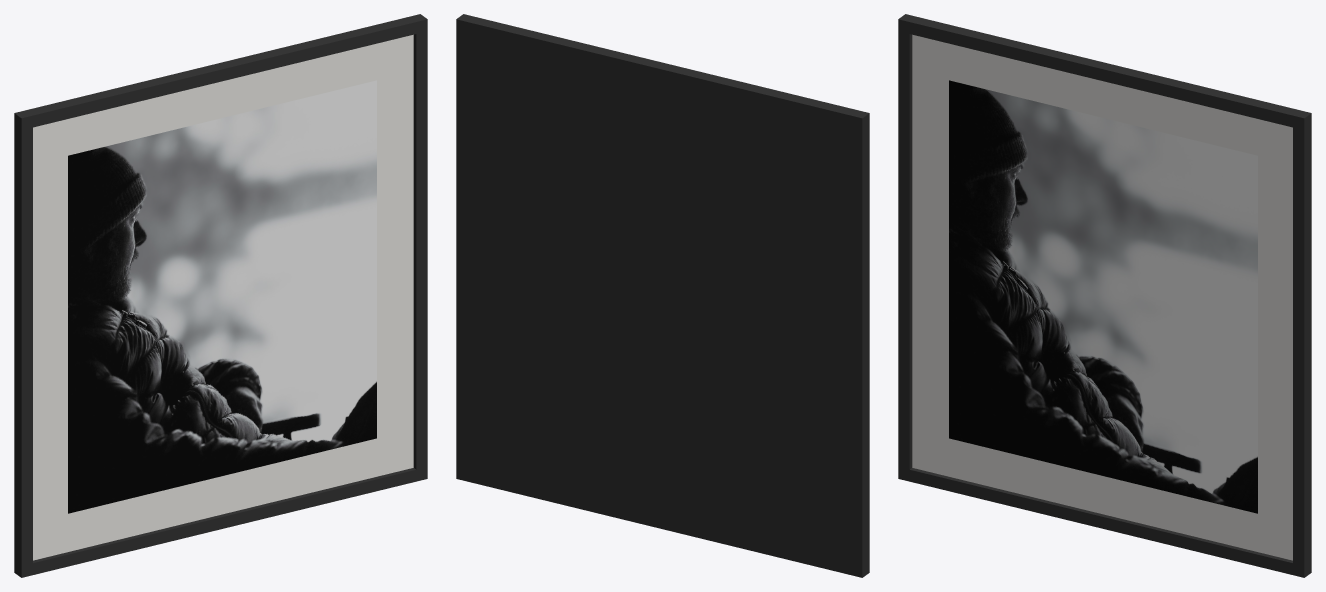
Rendered from vid-fonstret-60.gltf.
The picture shows the model from 3 angles, left to right: view 1: azimuth 30°, elevation 25°; view 2: azimuth 150°, elevation 25°; view 3: azimuth 330°, elevation 25°; orthographic projection.
Visible parts, largest first — view 1: tavla; view 2: tavla; view 3: tavla.
Part boxes in pixels (bbox=[...]): tavla: bbox=[14, 14, 427, 577]; tavla: bbox=[456, 14, 869, 577]; tavla: bbox=[898, 14, 1311, 577].
Bounding box in the file's own units: 0.7123 × 0.7701 × 0.022.
Materials: 3 (1 with a texture image).
